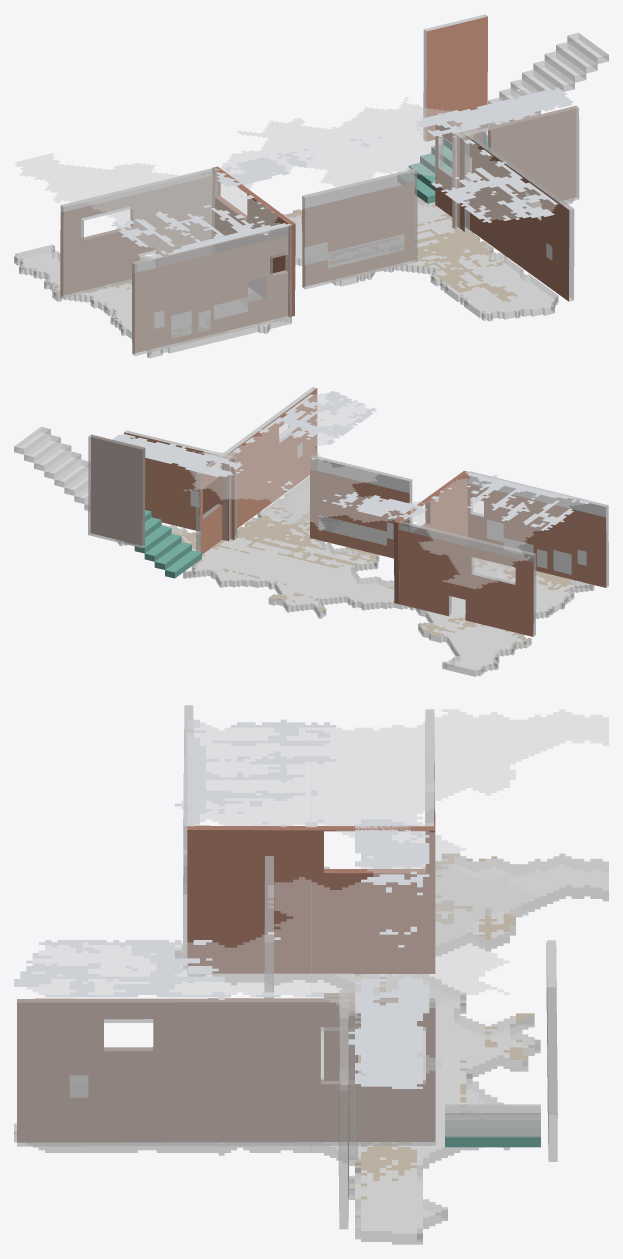
File: modelo.glb
3 views of the same model, one above another, from view 1: azimuth 30°, elevation 25°; view 2: azimuth 150°, elevation 25°; view 3: azimuth 270°, elevation 25° (orthographic). The views are drawn at different scales.
Visible parts, largest first — view 1: CieloRaso_supuesto, Muro_M03_0_cuerpo_supuesto, Losa_cuerpo, Muro_M06_0_cuerpo_supuesto, Muro_M01_0_cuerpo_supuesto, Muro_M03_0_cara_medida, CieloRaso_medido, Muro_M06_0_cara_medida, Muro_M00_0_cara_medida, Piso_supuesto, Muro_M01_0_cara_medida, Muro_M04_0_cuerpo_supuesto (+10 smaller); view 2: CieloRaso_supuesto, Losa_cuerpo, Piso_supuesto, Muro_M06_0_cara_medida, CieloRaso_medido, Muro_M03_0_cara_medida, Muro_M00_0_cara_medida, Muro_M09_1_cuerpo_supuesto, Muro_M09_1_cara_medida, Piso_medido, Muro_M01_0_cara_medida, Muro_M04_0_cara_medida (+13 smaller); view 3: CieloRaso_supuesto, Muro_M00_0_cuerpo_supuesto, Muro_M00_0_cara_medida, Muro_M02_0_cuerpo, Losa_cuerpo, CieloRaso_medido, Piso_supuesto, Piso_medido, Escalera_peldanos_supuestos, Muro_M04_0_cuerpo_supuesto, Muro_M09_1_cuerpo_supuesto, Muro_M03_0_cuerpo_supuesto (+6 smaller).
Part boxes in pixels (x1,y1,x2,y2): CieloRaso_supuesto: (14, 90, 559, 259); Muro_M03_0_cuerpo_supuesto: (132, 225, 291, 355); Losa_cuerpo: (14, 198, 573, 358); Muro_M06_0_cuerpo_supuesto: (60, 167, 217, 298); Muro_M01_0_cuerpo_supuesto: (302, 168, 417, 289); Muro_M03_0_cara_medida: (132, 236, 287, 353); CieloRaso_medido: (111, 87, 573, 258); Muro_M06_0_cara_medida: (60, 177, 211, 295); Muro_M00_0_cara_medida: (435, 114, 569, 301); Piso_supuesto: (15, 199, 557, 331); Muro_M01_0_cara_medida: (302, 182, 414, 286); Muro_M04_0_cuerpo_supuesto: (452, 106, 579, 229); CieloRaso_supuesto: (130, 392, 593, 589); Losa_cuerpo: (117, 477, 594, 676); Piso_supuesto: (162, 477, 588, 670); Muro_M06_0_cara_medida: (399, 529, 533, 636); CieloRaso_medido: (112, 391, 590, 530); Muro_M03_0_cara_medida: (467, 484, 606, 587); Muro_M00_0_cara_medida: (200, 388, 317, 554); Muro_M09_1_cuerpo_supuesto: (88, 434, 145, 548); Muro_M09_1_cara_medida: (91, 435, 145, 545); Piso_medido: (171, 507, 592, 648); Muro_M01_0_cara_medida: (310, 469, 409, 558); Muro_M04_0_cara_medida: (124, 432, 234, 539); CieloRaso_supuesto: (26, 709, 608, 1075); Muro_M00_0_cuerpo_supuesto: (17, 998, 435, 1146); Muro_M00_0_cara_medida: (17, 998, 434, 1142); Muro_M02_0_cuerpo: (187, 826, 435, 973); Losa_cuerpo: (14, 854, 608, 1244); CieloRaso_medido: (14, 719, 447, 1088); Piso_supuesto: (14, 853, 608, 1233); Piso_medido: (231, 853, 540, 1199); Escalera_peldanos_supuestos: (445, 1104, 540, 1137); Muro_M04_0_cuerpo_supuesto: (338, 990, 349, 1229); Muro_M09_1_cuerpo_supuesto: (546, 940, 557, 1161); Muro_M03_0_cuerpo_supuesto: (183, 705, 193, 968).
Size of the model in its own units: 16.35 by 4.16 by 9.6.
